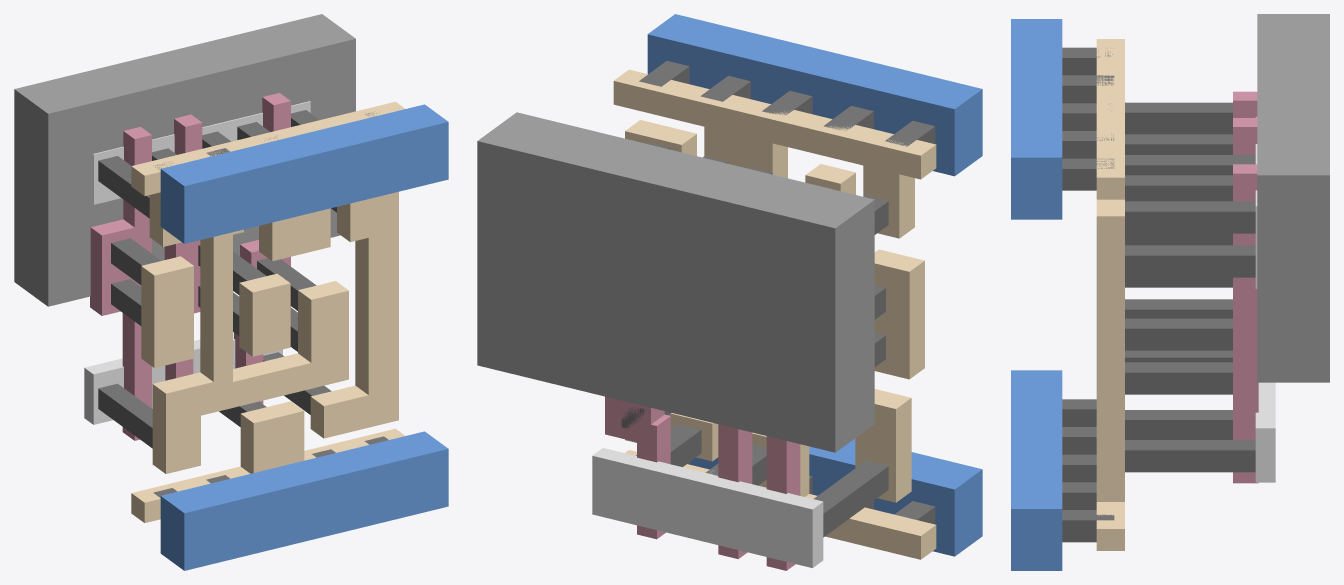
Rendered from sky130_fd_sc_hd__and2_0.gds.gltf.
3 views of the same model, side by side, from view 1: azimuth 30°, elevation 25°; view 2: azimuth 150°, elevation 25°; view 3: azimuth 270°, elevation 25° (orthographic). The views are drawn at different scales.
Visible parts, largest first — view 1: sky130_fd_sc_hd__and2_0_li1, sky130_fd_sc_hd__and2_0_met1, sky130_fd_sc_hd__and2_0_nwell, sky130_fd_sc_hd__and2_0_poly, sky130_fd_sc_hd__and2_0_licon, sky130_fd_sc_hd__and2_0_diff, sky130_fd_sc_hd__and2_0_mcon; view 2: sky130_fd_sc_hd__and2_0_nwell, sky130_fd_sc_hd__and2_0_li1, sky130_fd_sc_hd__and2_0_met1, sky130_fd_sc_hd__and2_0_diff, sky130_fd_sc_hd__and2_0_poly, sky130_fd_sc_hd__and2_0_licon, sky130_fd_sc_hd__and2_0_mcon; view 3: sky130_fd_sc_hd__and2_0_licon, sky130_fd_sc_hd__and2_0_nwell, sky130_fd_sc_hd__and2_0_met1, sky130_fd_sc_hd__and2_0_li1, sky130_fd_sc_hd__and2_0_mcon, sky130_fd_sc_hd__and2_0_poly, sky130_fd_sc_hd__and2_0_diff.
Part boxes in pixels (left/top/right/bottom): sky130_fd_sc_hd__and2_0_li1: left=131, top=101, right=404, bottom=522; sky130_fd_sc_hd__and2_0_met1: left=160, top=104, right=448, bottom=570; sky130_fd_sc_hd__and2_0_nwell: left=14, top=14, right=355, bottom=306; sky130_fd_sc_hd__and2_0_poly: left=90, top=93, right=290, bottom=440; sky130_fd_sc_hd__and2_0_licon: left=98, top=110, right=336, bottom=448; sky130_fd_sc_hd__and2_0_diff: left=84, top=101, right=310, bottom=424; sky130_fd_sc_hd__and2_0_mcon: left=153, top=111, right=388, bottom=497; sky130_fd_sc_hd__and2_0_nwell: left=477, top=112, right=874, bottom=452; sky130_fd_sc_hd__and2_0_li1: left=613, top=69, right=936, bottom=559; sky130_fd_sc_hd__and2_0_met1: left=647, top=14, right=982, bottom=556; sky130_fd_sc_hd__and2_0_diff: left=592, top=448, right=823, bottom=567; sky130_fd_sc_hd__and2_0_poly: left=605, top=396, right=800, bottom=570; sky130_fd_sc_hd__and2_0_licon: left=621, top=142, right=888, bottom=537; sky130_fd_sc_hd__and2_0_mcon: left=639, top=61, right=935, bottom=524; sky130_fd_sc_hd__and2_0_licon: left=1125, top=102, right=1255, bottom=472; sky130_fd_sc_hd__and2_0_nwell: left=1257, top=14, right=1329, bottom=382; sky130_fd_sc_hd__and2_0_met1: left=1011, top=19, right=1062, bottom=570; sky130_fd_sc_hd__and2_0_li1: left=1096, top=39, right=1124, bottom=550; sky130_fd_sc_hd__and2_0_mcon: left=1062, top=47, right=1114, bottom=542; sky130_fd_sc_hd__and2_0_poly: left=1233, top=91, right=1258, bottom=483; sky130_fd_sc_hd__and2_0_diff: left=1255, top=117, right=1275, bottom=482.
Size of the model in its own units: 2.68 by 3.2 by 2.24.
